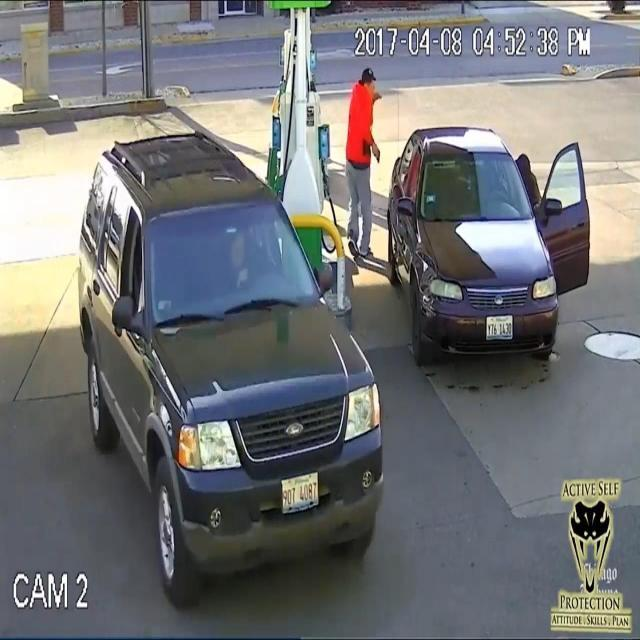pistol: (371, 136, 382, 166)
